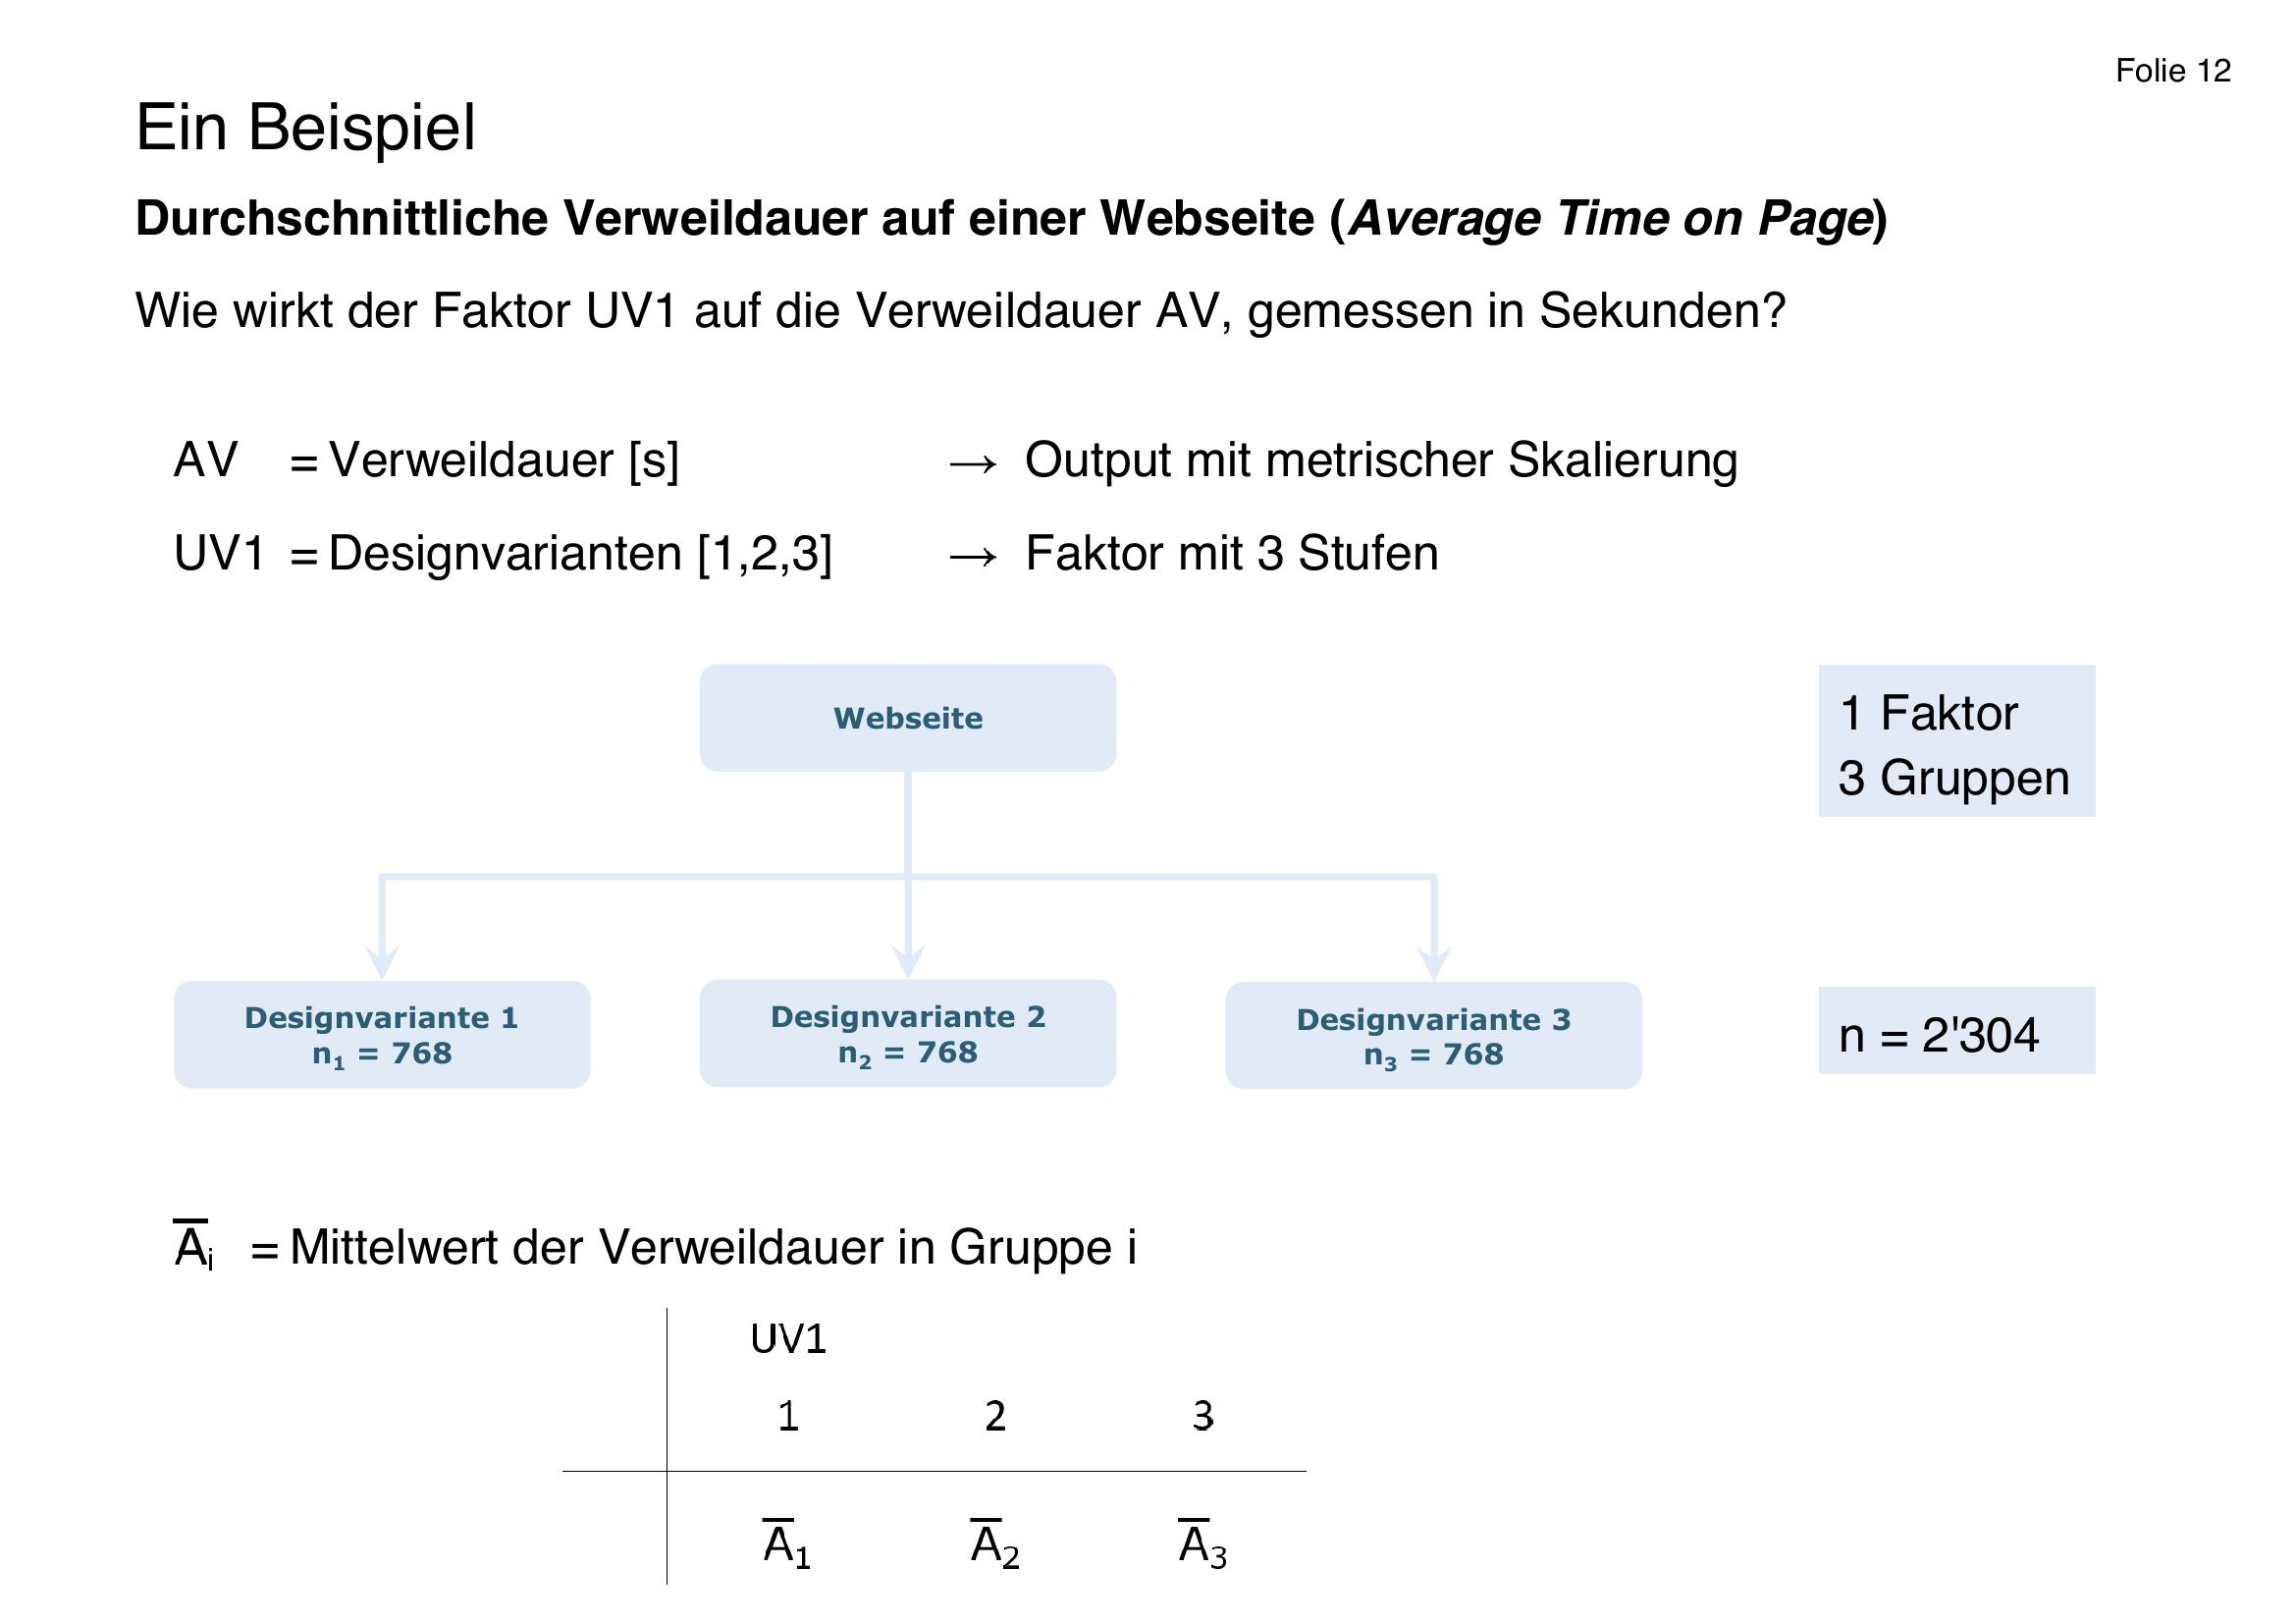Title: (121, 84, 479, 169)
